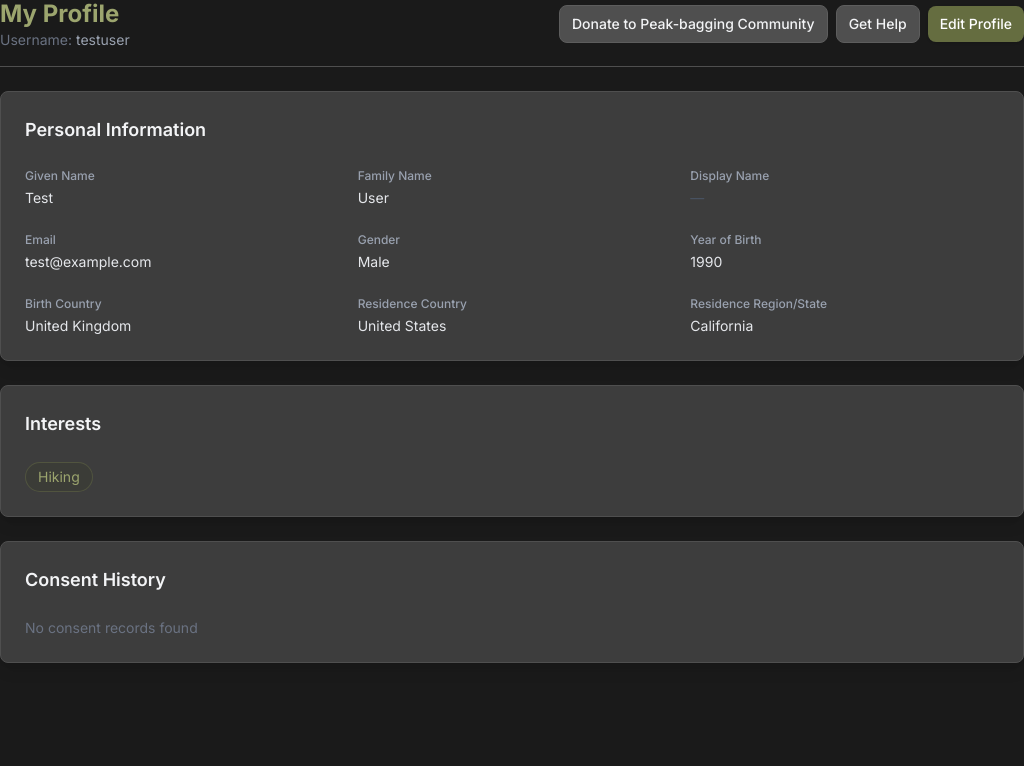
Scenario: UserOwnProfile › shows password section when Change Password button is clicked
The image size is (1024, 766).
Click the button "Edit Profile" at (976, 24), box [928,6,1023,42]
(page scrolled)
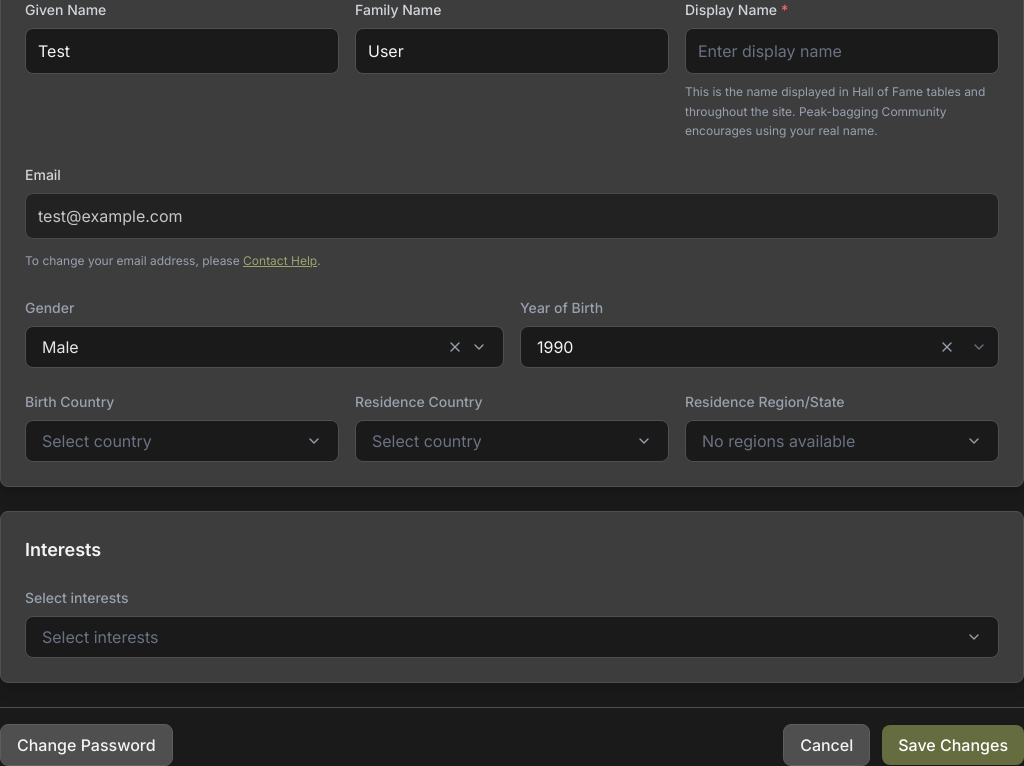
Expected: the button "Change Password" is shown
# Click to show password section
Click the button "Change Password" at (86, 745), box [0,724,173,765]
(page scrolled)
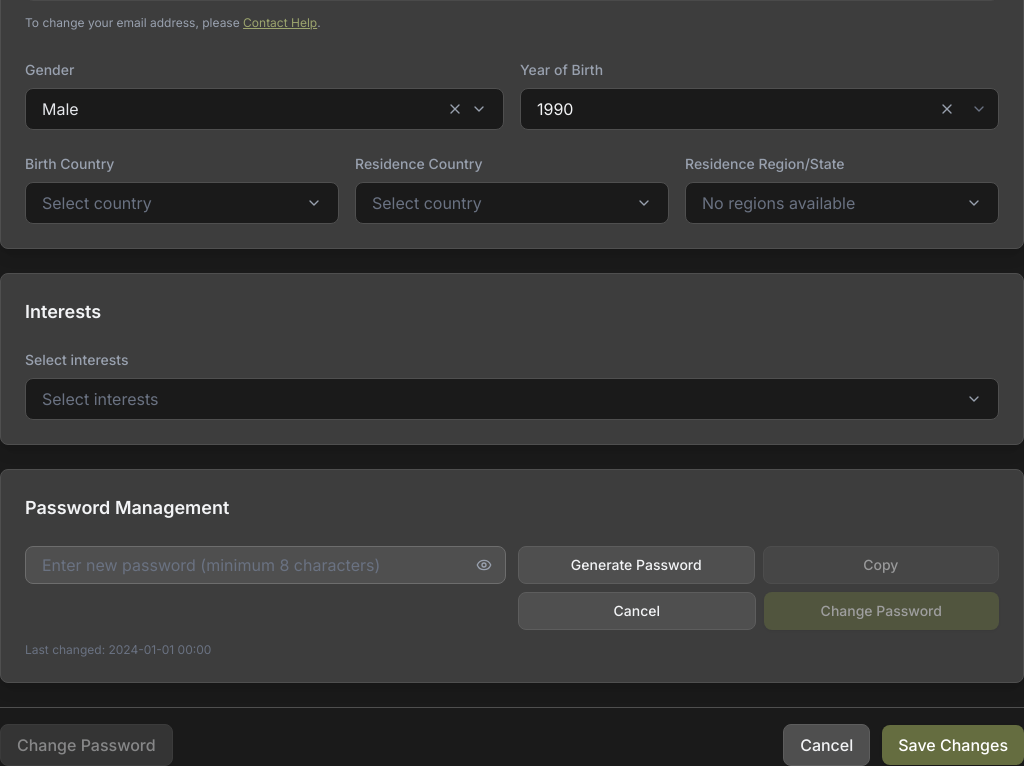
Expected: the password field with placeholder "Enter new password (minimum 8 characters)" is shown, [25,546,506,584]
